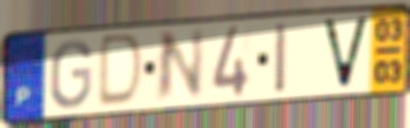4: (210, 23, 252, 100)
D: (95, 31, 147, 109)
G: (48, 38, 95, 111)
I: (273, 20, 289, 97)
N: (152, 26, 207, 107)
V: (319, 14, 373, 92)
